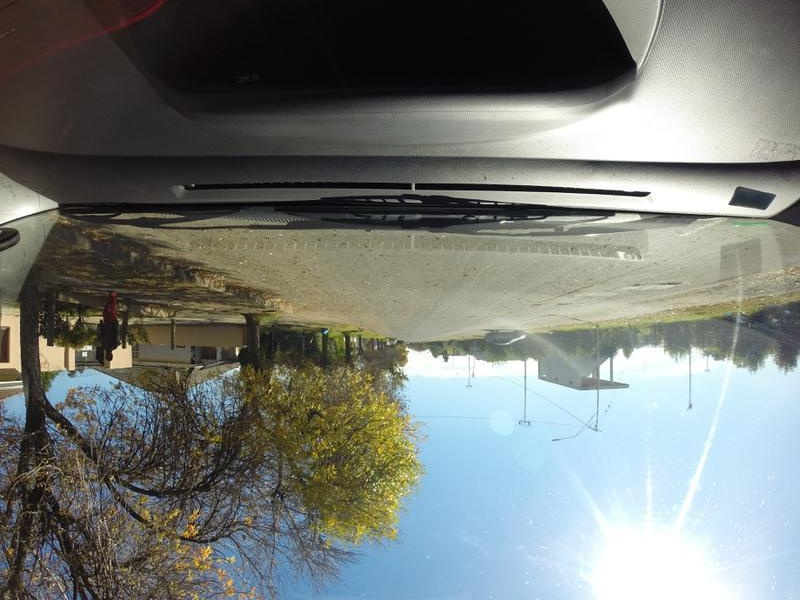pothole: (657, 279, 683, 286), (630, 279, 649, 286), (557, 302, 580, 306), (531, 301, 548, 306)
